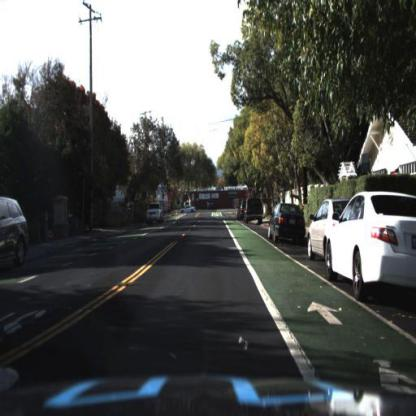car: (324, 188, 415, 296), (304, 197, 352, 262), (0, 192, 30, 274), (264, 198, 306, 248), (142, 199, 164, 224), (244, 196, 264, 223), (178, 199, 197, 215)
